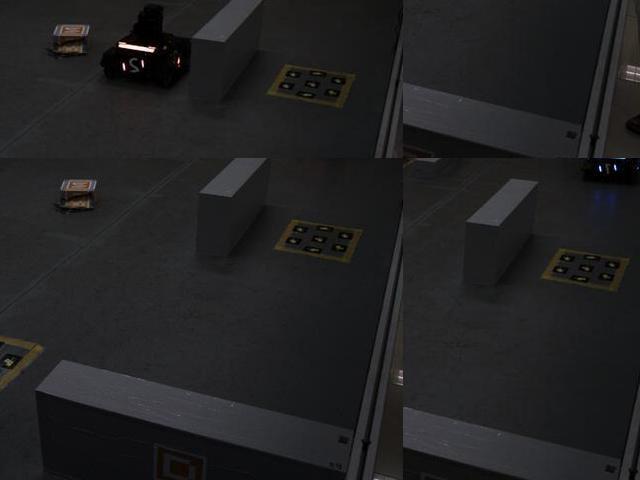armor: (119, 53, 148, 78), (596, 160, 621, 179), (169, 47, 189, 69)
